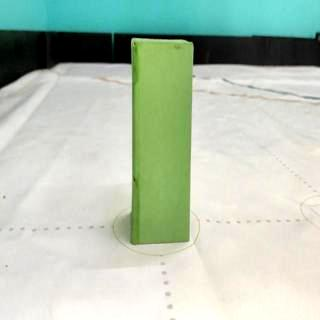greenbox: (129, 36, 194, 244)
